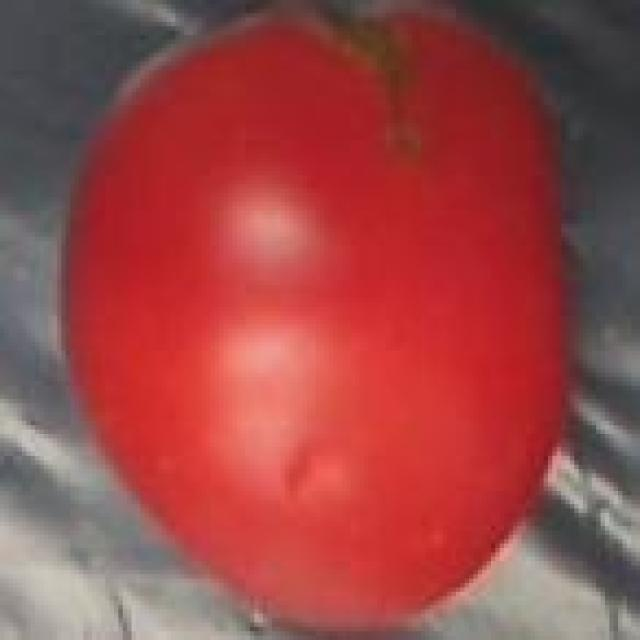overripe tomato: (53, 0, 592, 640)
